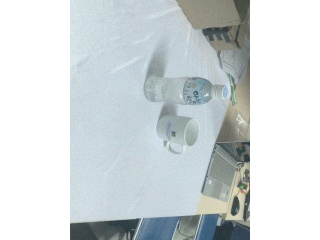bottle: (144, 75, 229, 105)
box: (169, 1, 249, 29)
cup: (156, 114, 200, 155)
